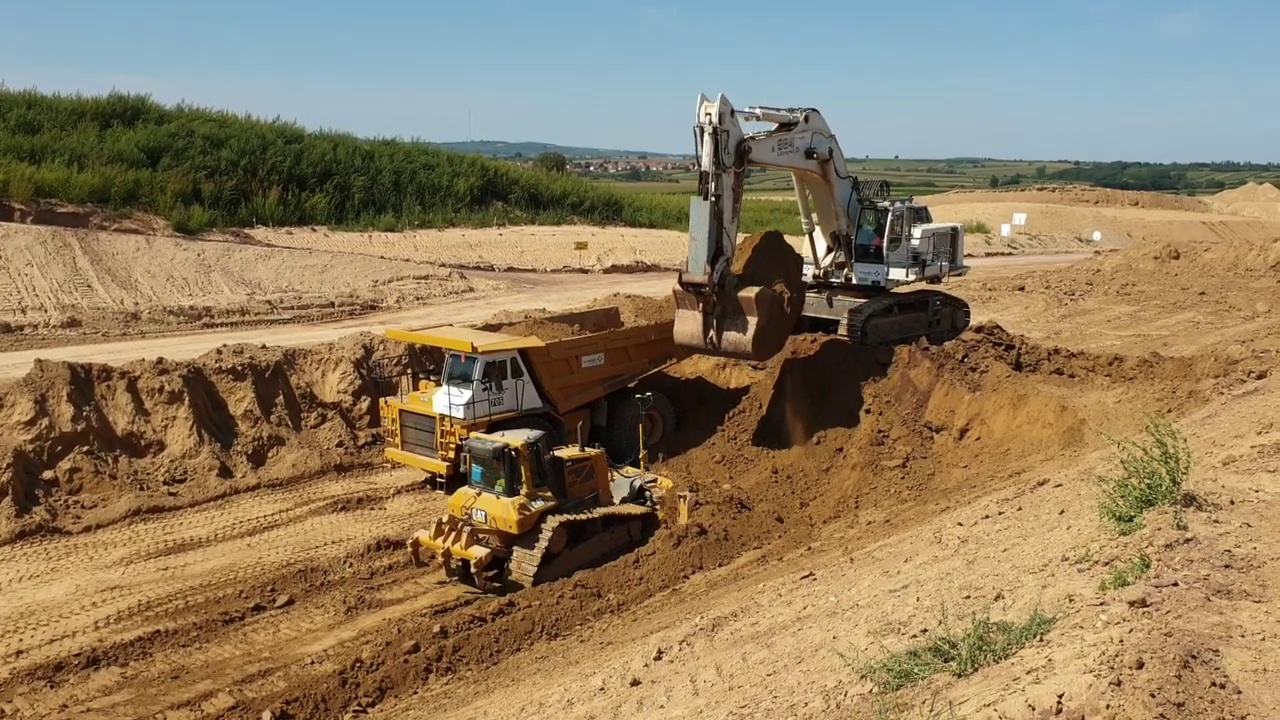bulldozer: (402, 388, 694, 598)
excavator: (670, 88, 973, 368)
truck: (364, 302, 694, 493)
